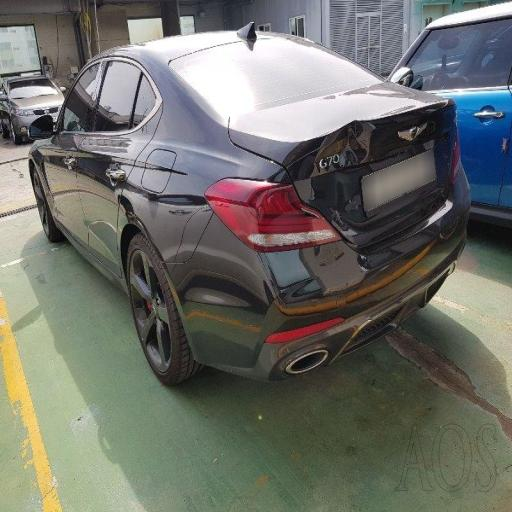dent: (241, 117, 404, 322), (179, 240, 273, 342)
